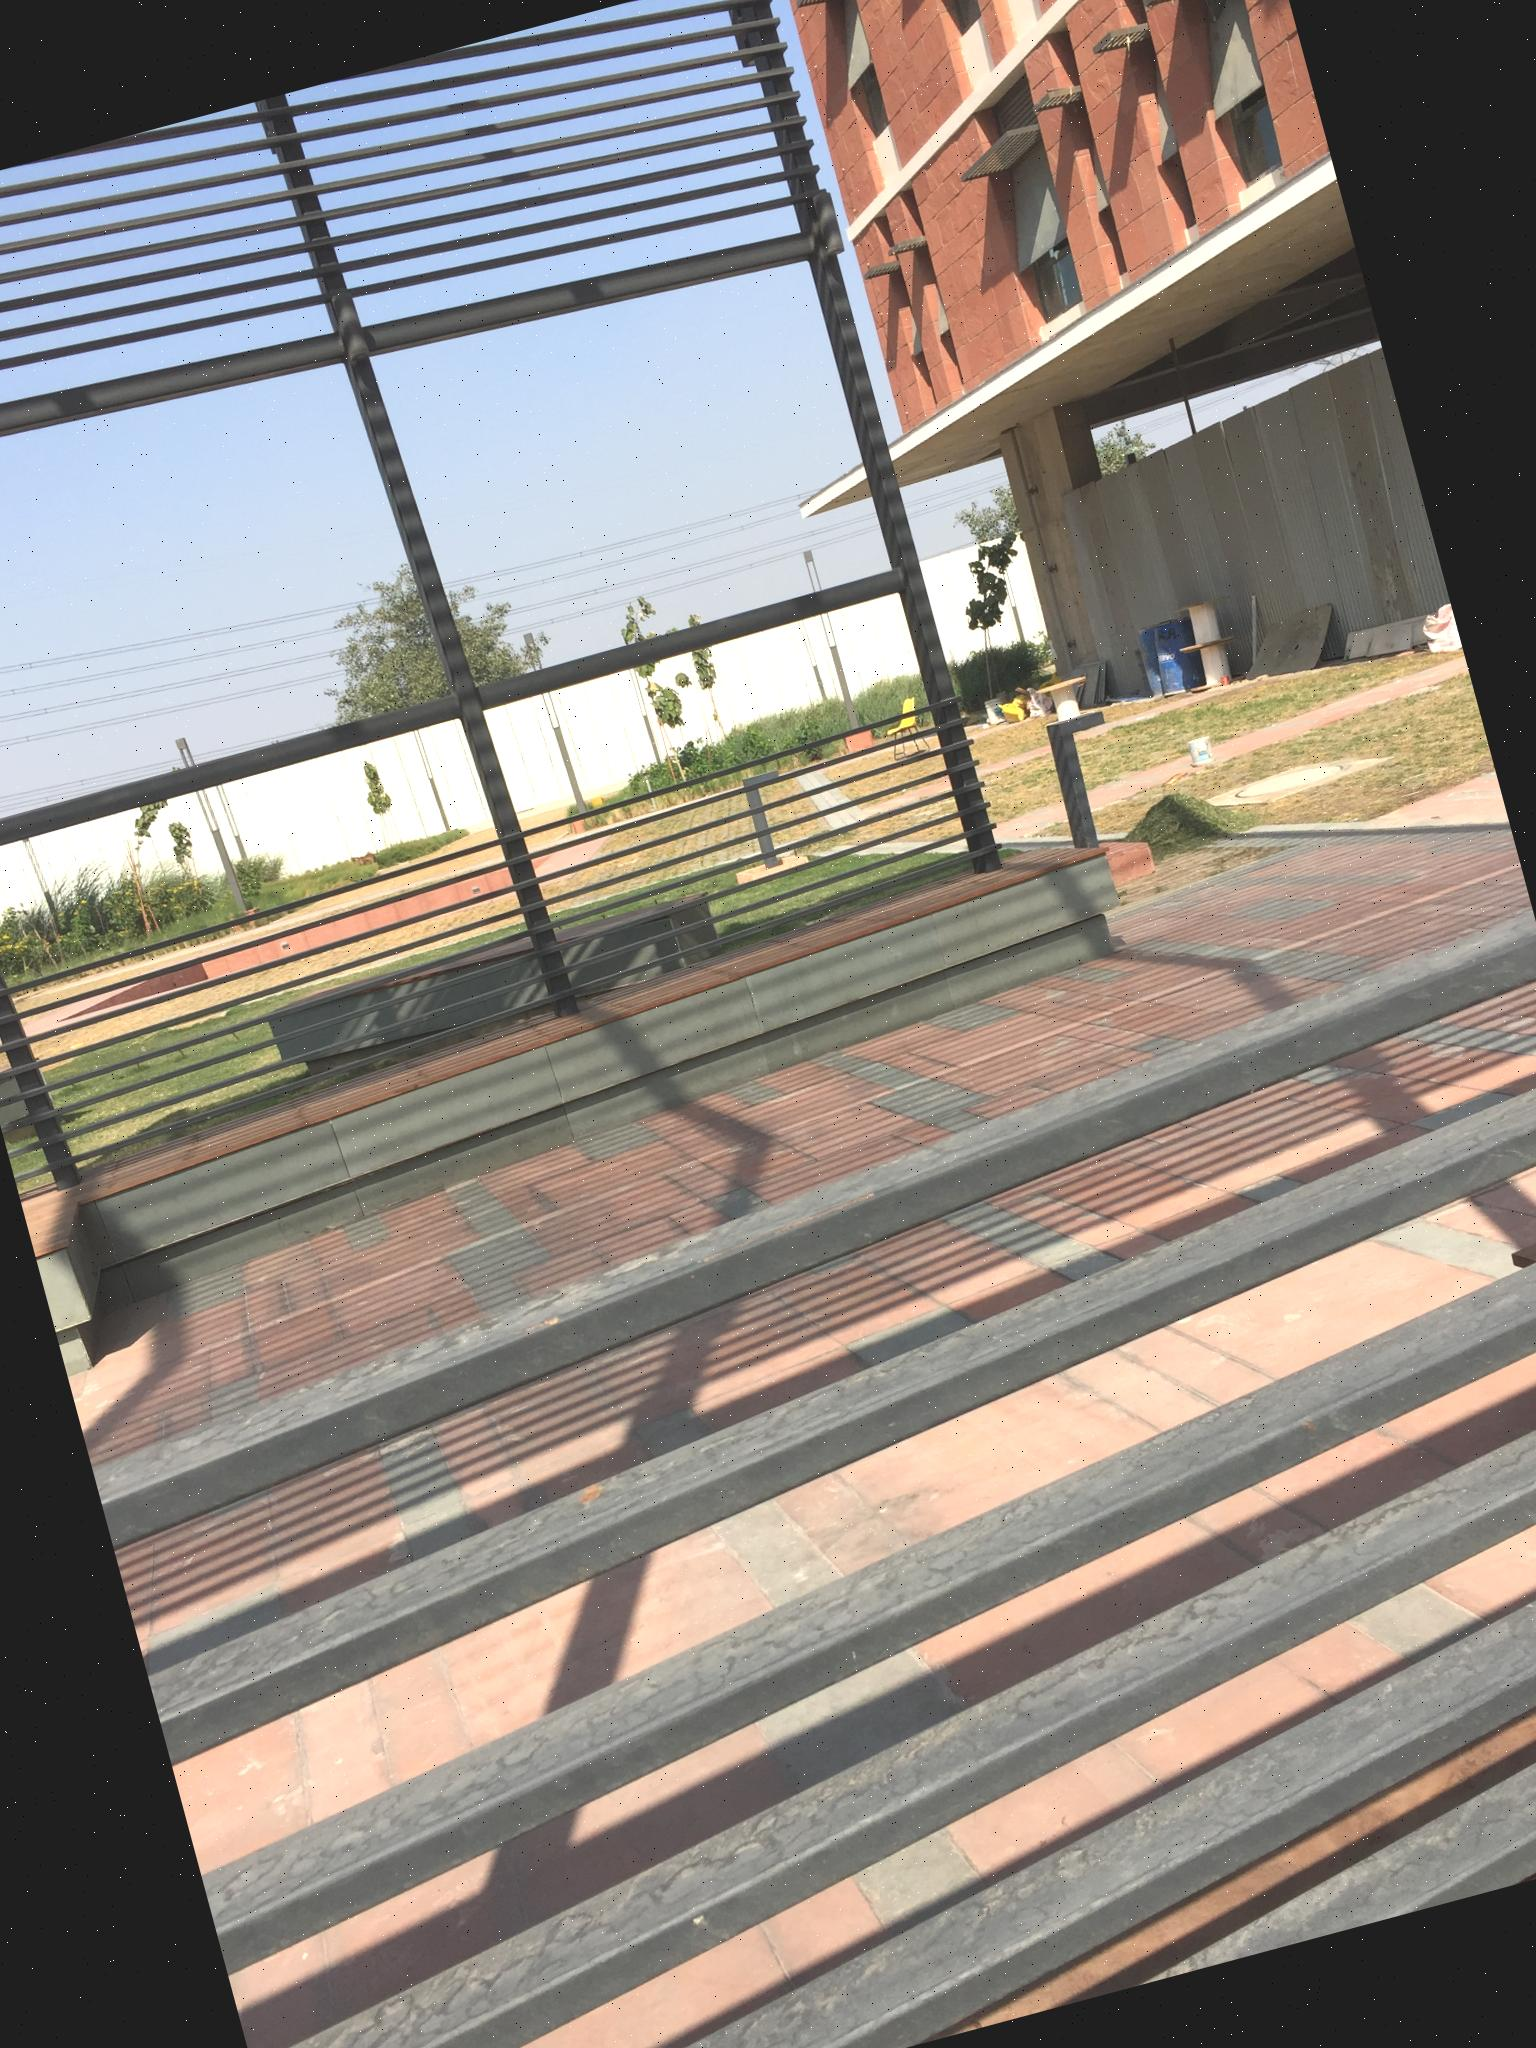chair: (876, 693, 933, 763)
